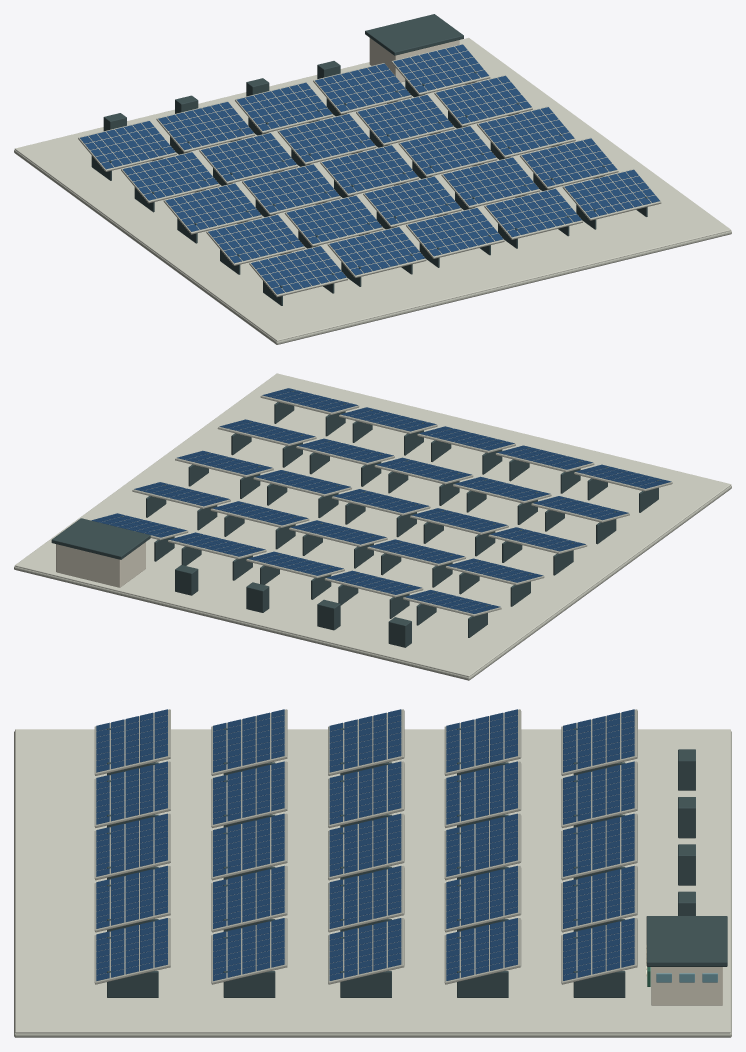
The model's file is power-solar.glb.
3 views of the same model, one above another, from view 1: azimuth 30°, elevation 25°; view 2: azimuth 150°, elevation 25°; view 3: azimuth 270°, elevation 25° (orthographic). The views are drawn at different scales.
Parts seen in each view (by area): view 1: Ground, Lot, InverterHouseRoof, SolarPanelFrame.010, SolarPanelFrame.008, SolarPanelFrame.006, SolarPanelFrame.018, SolarPanelFrame.024, SolarPanelFrame, SolarPanelFrame.004, SolarPanelFrame.012, SolarPanelFrame.016 (+17 smaller); view 2: Ground, Lot, InverterHouse, InverterHouseRoof, Inverter, Inverter.001, Inverter.003, Inverter.002; view 3: Ground, Lot, InverterHouseRoof, InverterHouse, PanelSupport.019, PanelSupport.049, SolarPanelFrame.018, SolarPanelFrame.016, SolarPanelFrame.019, SolarPanelFrame.017, SolarPanelFrame.009, SolarPanelFrame.023 (+25 smaller).
Boxes of the visible parts, left/top/right/bottom form: Ground: left=14, top=38, right=731, bottom=341; Lot: left=14, top=150, right=731, bottom=344; InverterHouseRoof: left=365, top=14, right=463, bottom=55; SolarPanelFrame.010: left=163, top=183, right=262, bottom=234; SolarPanelFrame.008: left=441, top=157, right=540, bottom=208; SolarPanelFrame.006: left=284, top=195, right=383, bottom=246; SolarPanelFrame.018: left=356, top=94, right=454, bottom=145; SolarPanelFrame.024: left=391, top=44, right=490, bottom=95; SolarPanelFrame: left=249, top=245, right=347, bottom=297; SolarPanelFrame.004: left=562, top=169, right=661, bottom=220; SolarPanelFrame.012: left=320, top=144, right=418, bottom=196; SolarPanelFrame.016: left=199, top=132, right=297, bottom=184; Ground: left=15, top=373, right=731, bottom=677; Lot: left=14, top=485, right=731, bottom=680; InverterHouse: left=56, top=542, right=145, bottom=587; InverterHouseRoof: left=51, top=518, right=150, bottom=559; Inverter: left=388, top=617, right=411, bottom=647; Inverter.001: left=317, top=599, right=340, bottom=630; Inverter.003: left=175, top=565, right=198, bottom=595; Inverter.002: left=246, top=582, right=269, bottom=612; Ground: left=15, top=729, right=730, bottom=1033; Lot: left=14, top=731, right=731, bottom=1037; InverterHouseRoof: left=646, top=916, right=727, bottom=966; InverterHouse: left=651, top=967, right=722, bottom=1005; PanelSupport.019: left=223, top=971, right=275, bottom=997; PanelSupport.049: left=573, top=971, right=625, bottom=997; SolarPanelFrame.018: left=444, top=865, right=521, bottom=932; SolarPanelFrame.016: left=444, top=761, right=521, bottom=827; SolarPanelFrame.019: left=444, top=918, right=521, bottom=984; SolarPanelFrame.017: left=444, top=813, right=521, bottom=880; SolarPanelFrame.009: left=211, top=918, right=287, bottom=984; SolarPanelFrame.023: left=561, top=865, right=637, bottom=932.
Bounding box in the file's own units: 16 × 1.28 × 16.
